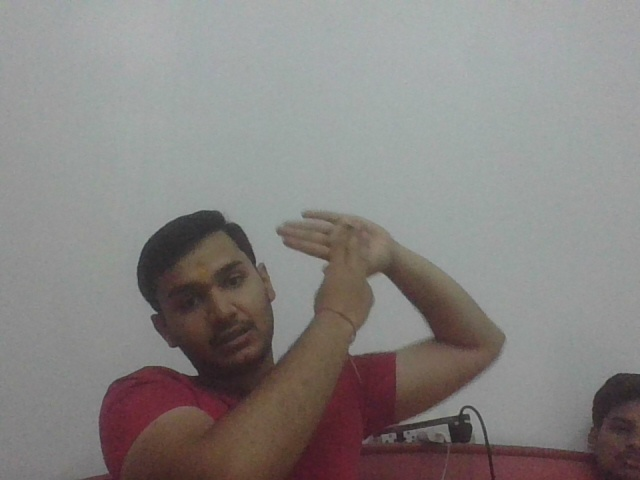M: (277, 207, 392, 306)
